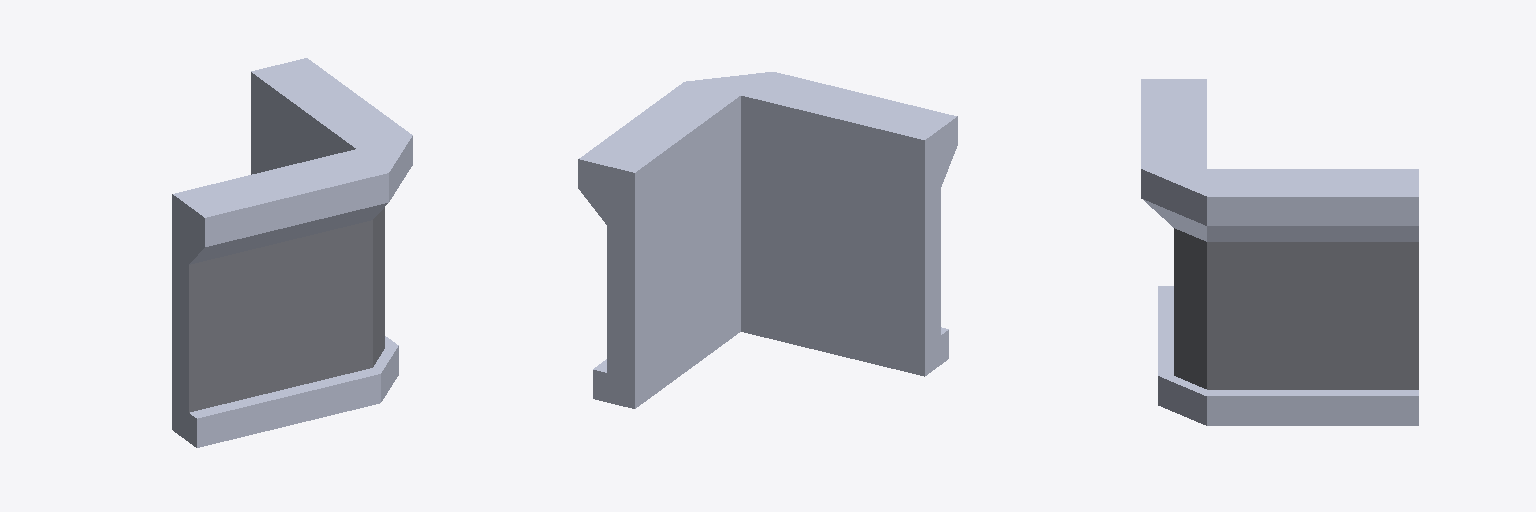
Rendered from spaceInterior_057.obj.
3 views of the same model, side by side, from view 1: azimuth 30°, elevation 25°; view 2: azimuth 150°, elevation 25°; view 3: azimuth 270°, elevation 25° (orthographic).
Visible parts, largest first — view 1: Mesh1 Group1 Model; view 2: Mesh1 Group1 Model; view 3: Mesh1 Group1 Model.
Boxes of the visible parts, box(x1,y1,x2,y2) form: Mesh1 Group1 Model: box(172, 58, 412, 447); Mesh1 Group1 Model: box(578, 72, 957, 408); Mesh1 Group1 Model: box(1141, 79, 1418, 425).
Size of the model in its own units: 1.06 by 1 by 1.06.